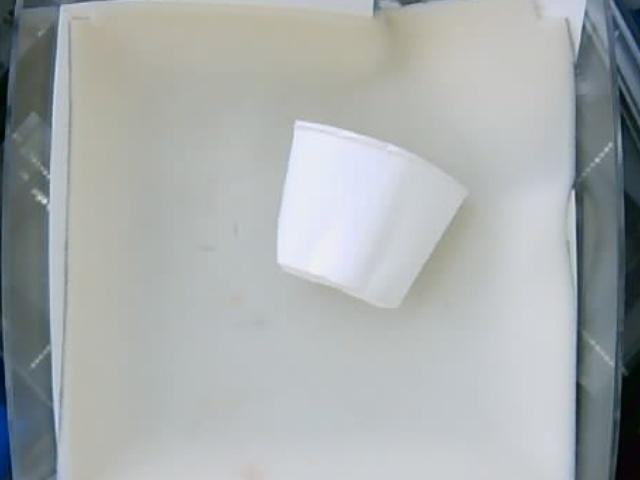Cup: (274, 121, 465, 312)
